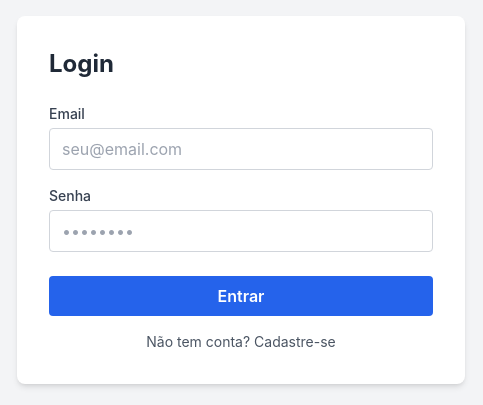
Login component › disables submit button while loading
Type "user@example.com" into the field labelled "Email" at (241, 149), box [49,128,433,170]
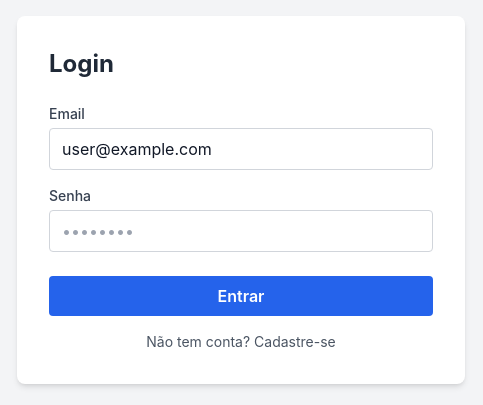
Type "secret123" into the password field labelled "Senha" at (241, 231), box [49,210,433,252]
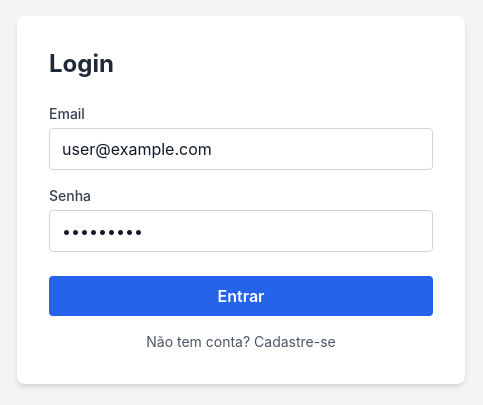
Click the button "Entrar" at (241, 296), box [49,276,433,316]
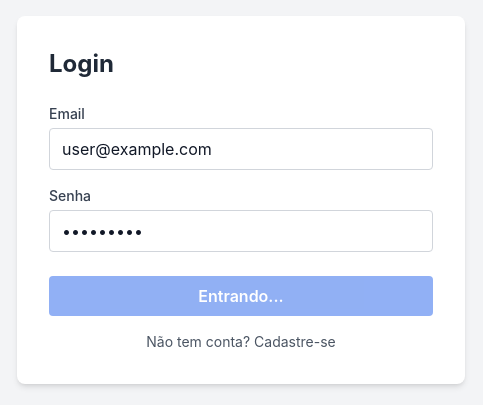
expect the button "Entrando..." is disabled: met, box [49,276,433,316]
